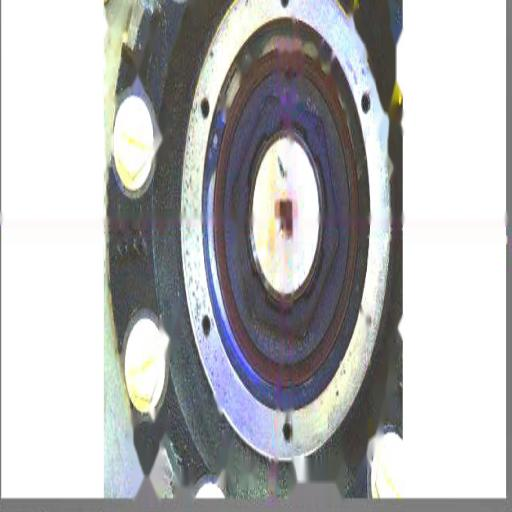center: (281, 213, 300, 240)
notch: (279, 58, 301, 90)
